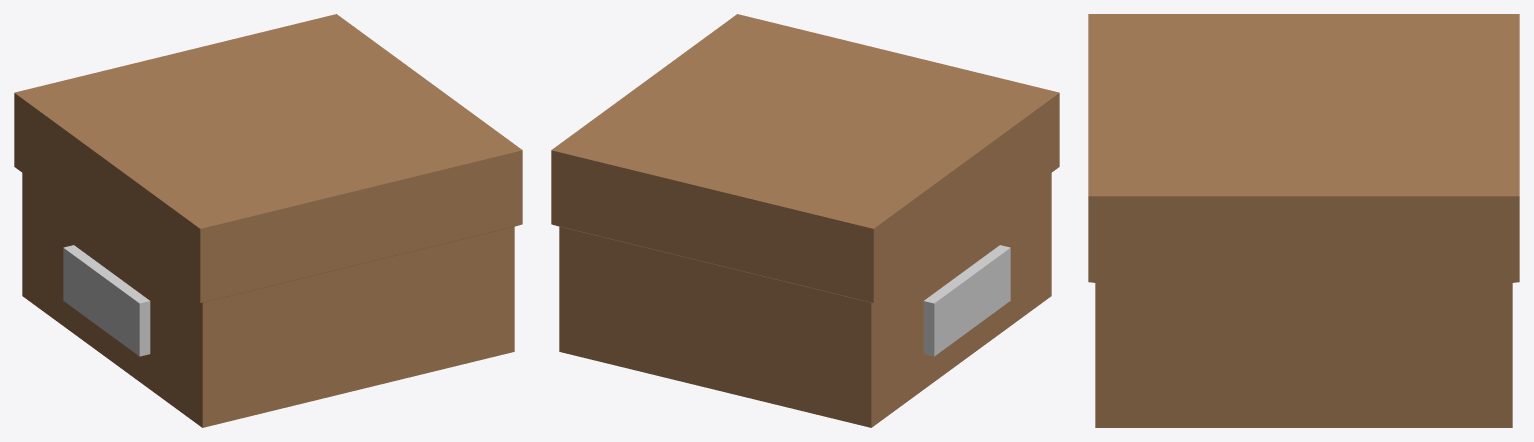
3 renders of one model, left to right at view 1: azimuth 30°, elevation 25°; view 2: azimuth 150°, elevation 25°; view 3: azimuth 270°, elevation 25°, orthographic. The views are drawn at different scales.
Visible parts, largest first — view 1: SM_Box_05; view 2: SM_Box_05; view 3: SM_Box_05.
Part boxes in pixels (box(x1,y1,x2,y2)): SM_Box_05: box(14, 14, 522, 427); SM_Box_05: box(551, 14, 1059, 427); SM_Box_05: box(1088, 14, 1519, 427).
Bounding box in the file's own units: 0.2275 × 0.1341 × 0.2235.
Materials: 1 (1 with a texture image).
